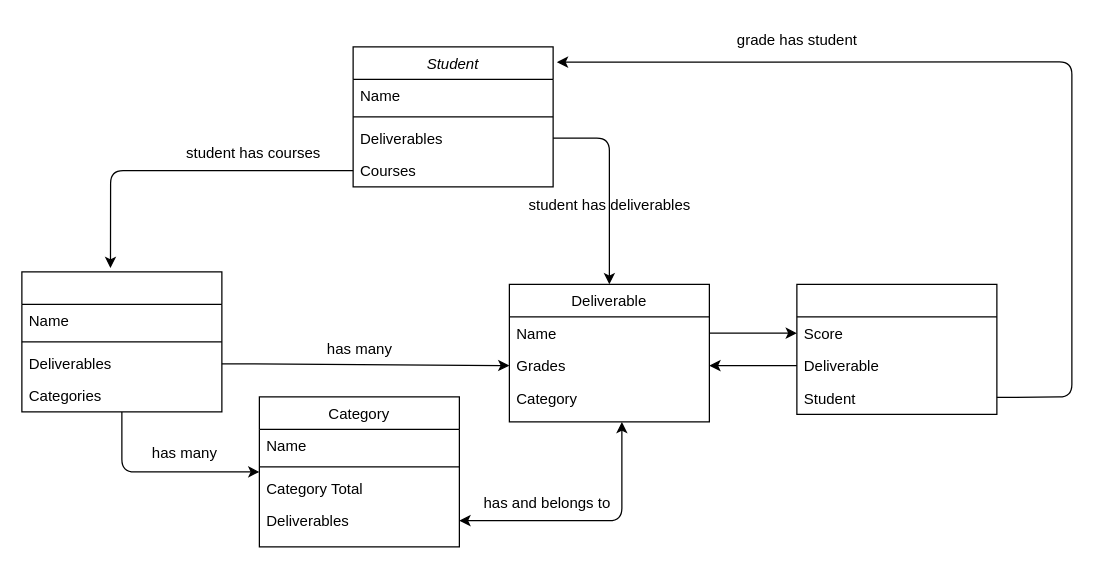
Some shapes in this 1104 by 569 pixel diagram are drawn without their labels. Each missing label, with the box of its shape:
Course: (21, 271, 222, 412)
Grade: (796, 283, 997, 414)
